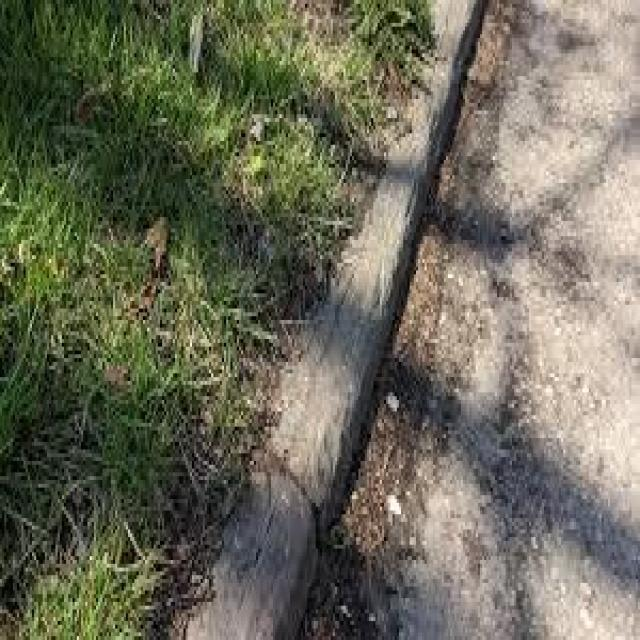bump: (207, 13, 489, 639)
